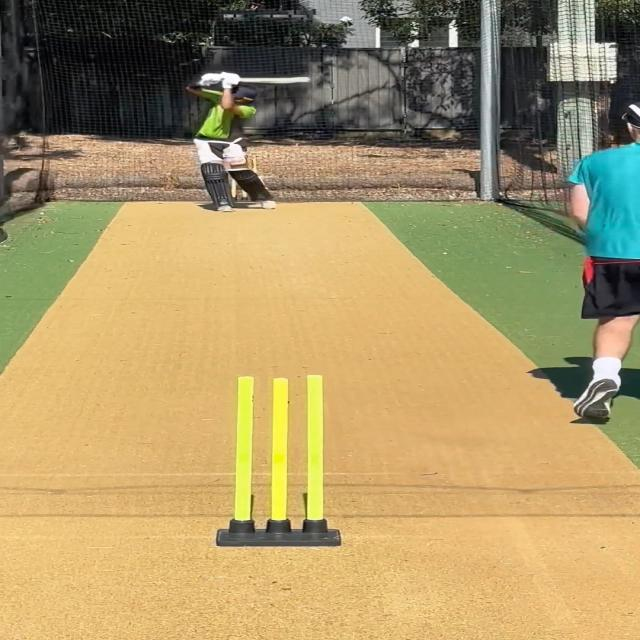stump: (216, 369, 343, 547)
